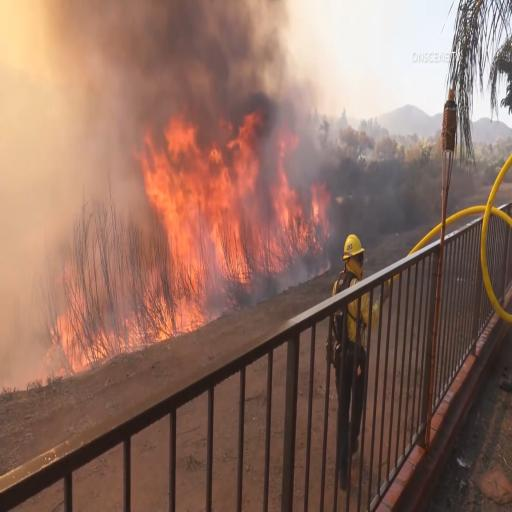fire: (151, 104, 219, 286), (225, 194, 282, 290)
smoke: (4, 6, 142, 263), (0, 2, 282, 100), (222, 1, 286, 103), (224, 112, 287, 196), (6, 264, 58, 353)
